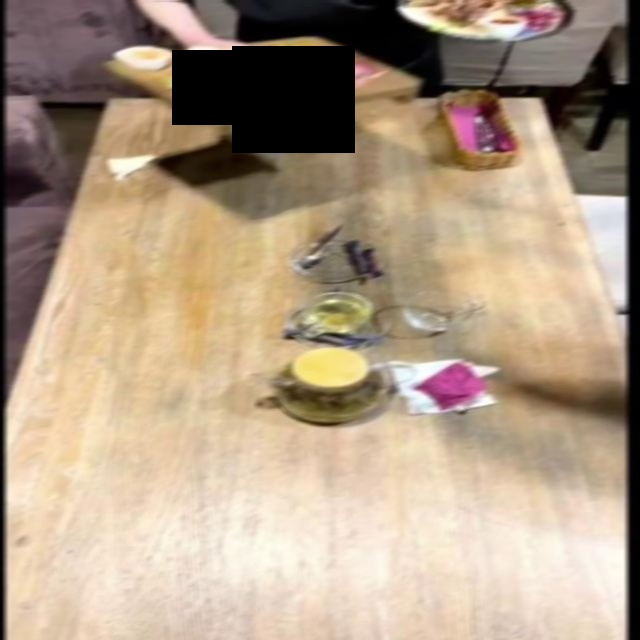meat: (101, 34, 423, 127), (391, 2, 593, 41)
tea: (279, 339, 406, 434)
